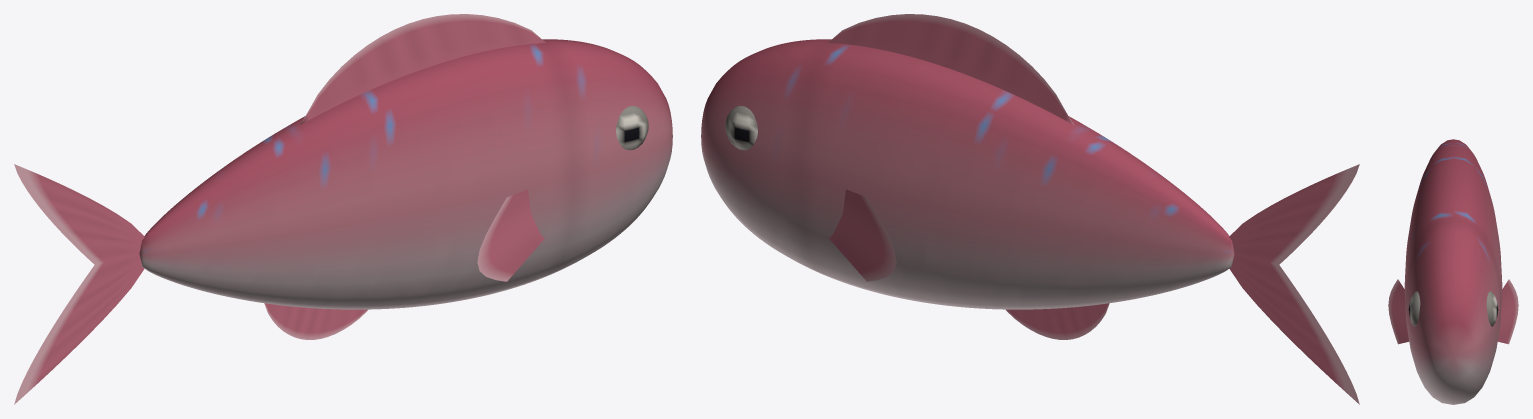
Rendered from mercanb.glb.
3 views of the same model, side by side, from view 1: azimuth 30°, elevation 25°; view 2: azimuth 150°, elevation 25°; view 3: azimuth 270°, elevation 25° (orthographic). The views are drawn at different scales.
Parts seen in each view (by area): view 1: mercanb_govde, mercanb_kuyruk, mercanb_sirt, mercanb_gogusL, mercanb_anal_a, mercanb_gozL; view 2: mercanb_govde, mercanb_kuyruk, mercanb_sirt, mercanb_gogusR, mercanb_anal_a, mercanb_gozR; view 3: mercanb_govde, mercanb_gogusL, mercanb_gogusR, mercanb_gozL, mercanb_gozR.
Boxes of the visible parts, x1,y1,x2,y2 form: mercanb_govde: (139,39,672,309); mercanb_kuyruk: (14,164,144,404); mercanb_sirt: (300,14,545,124); mercanb_gogusL: (477,189,544,281); mercanb_anal_a: (264,303,367,339); mercanb_gozL: (616,106,648,150); mercanb_govde: (701,39,1234,309); mercanb_kuyruk: (1229,164,1359,404); mercanb_sirt: (828,14,1073,124); mercanb_gogusR: (829,189,896,281); mercanb_anal_a: (1006,303,1109,339); mercanb_gozR: (725,106,757,150); mercanb_govde: (1404,139,1502,404); mercanb_gogusL: (1388,279,1409,344); mercanb_gogusR: (1497,279,1518,344); mercanb_gozL: (1408,291,1420,326); mercanb_gozR: (1486,291,1498,326).
Bounding box in the file's own units: 1.02 × 0.4406 × 0.2275.
